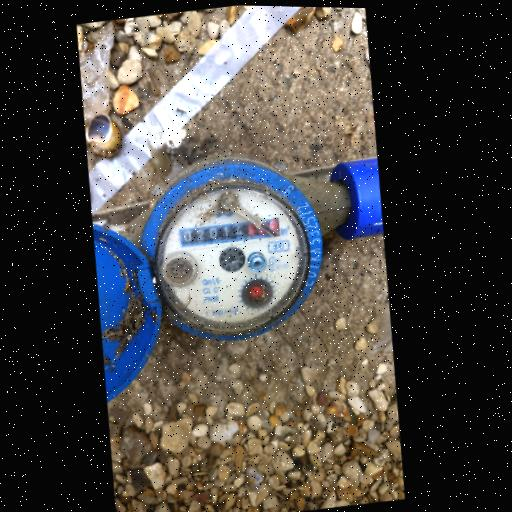0: (205, 226, 221, 242), (181, 230, 195, 244)
1: (219, 225, 234, 240)
2: (193, 228, 208, 243)
4: (231, 223, 247, 238), (255, 220, 270, 236), (245, 222, 258, 237), (267, 220, 279, 235)
border_water_meter_number: (178, 215, 281, 251)
